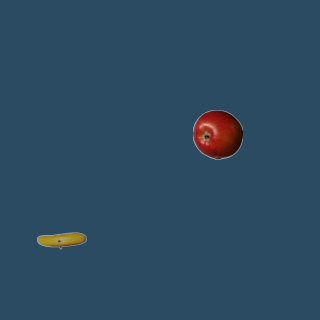Apple Braeburn: (192, 109, 242, 159)
Banana: (36, 215, 86, 265)
